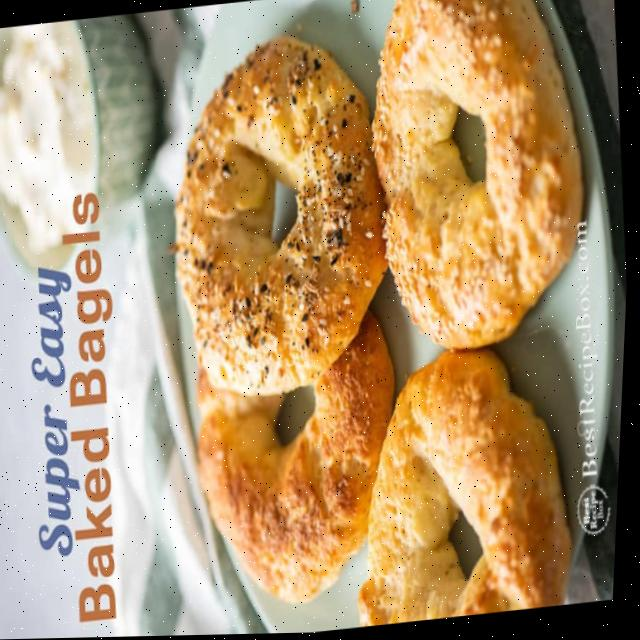Bagel: (177, 36, 388, 395), (373, 0, 584, 350), (364, 350, 576, 627), (200, 313, 397, 602)
